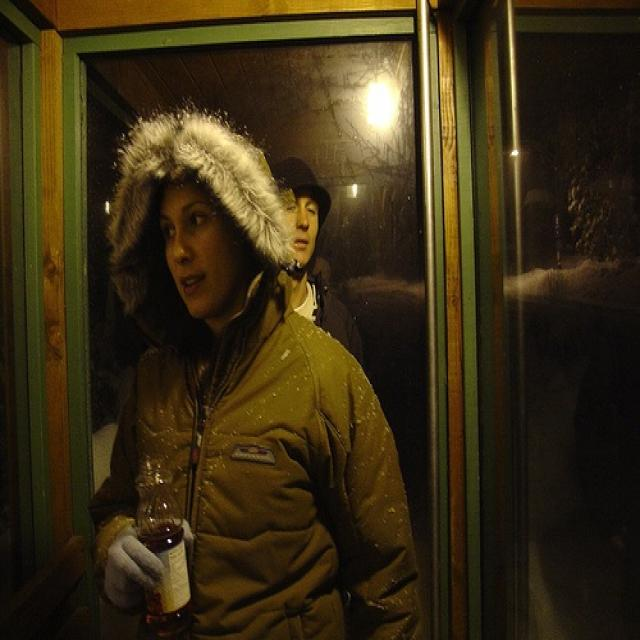bottle: (137, 458, 197, 624)
person: (88, 111, 422, 640), (267, 155, 366, 360)
